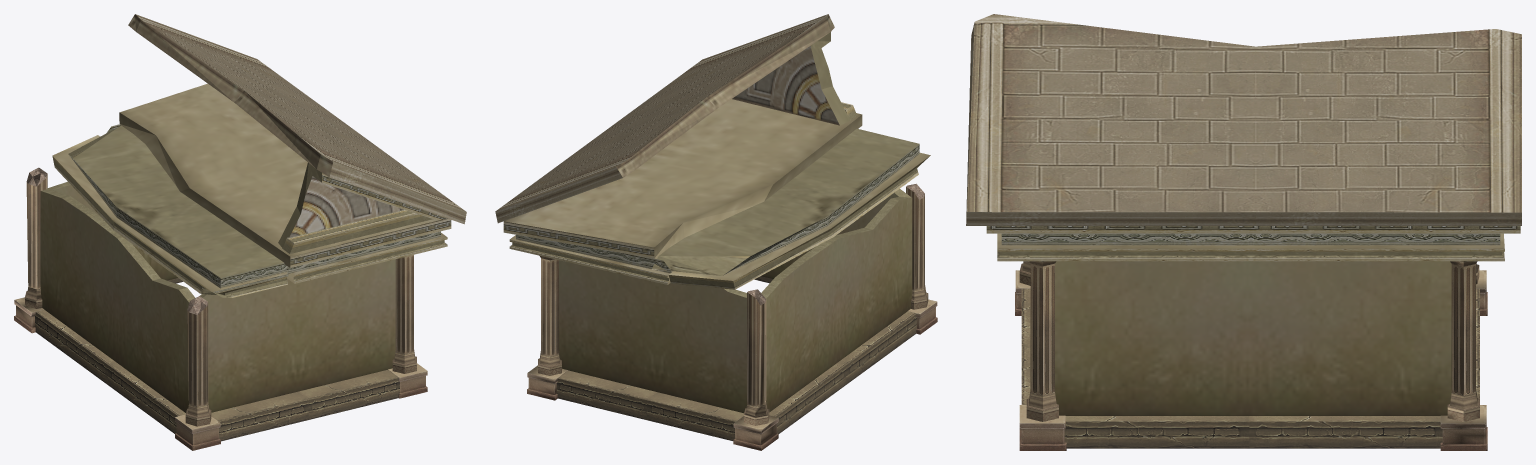
Rendered from Residence01_Build_002.FBX.
The picture shows the model from 3 angles, left to right: view 1: azimuth 30°, elevation 25°; view 2: azimuth 150°, elevation 25°; view 3: azimuth 270°, elevation 25°; orthographic projection. The views are drawn at different scales.
Parts seen in each view (by area): view 1: Residence01_Build_002; view 2: Residence01_Build_002; view 3: Residence01_Build_002.
Boxes of the visible parts, left/top/right/bottom form: Residence01_Build_002: left=14, top=14, right=466, bottom=450; Residence01_Build_002: left=495, top=14, right=937, bottom=450; Residence01_Build_002: left=966, top=14, right=1521, bottom=450.
Size of the model in its own units: 791 by 805 by 1121.
